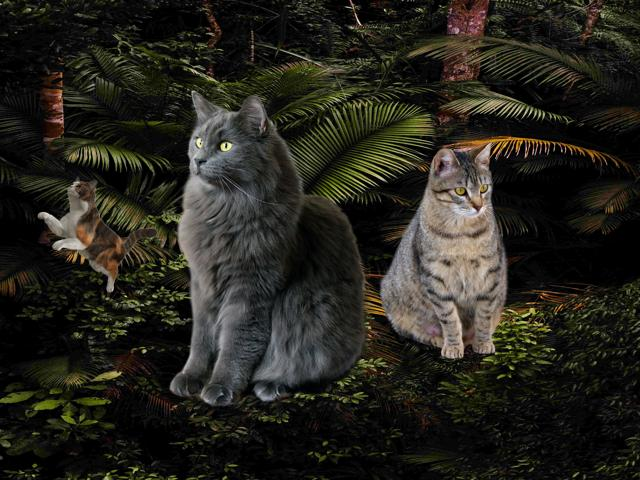cat: (164, 86, 371, 410), (375, 137, 513, 363), (38, 177, 160, 291)
